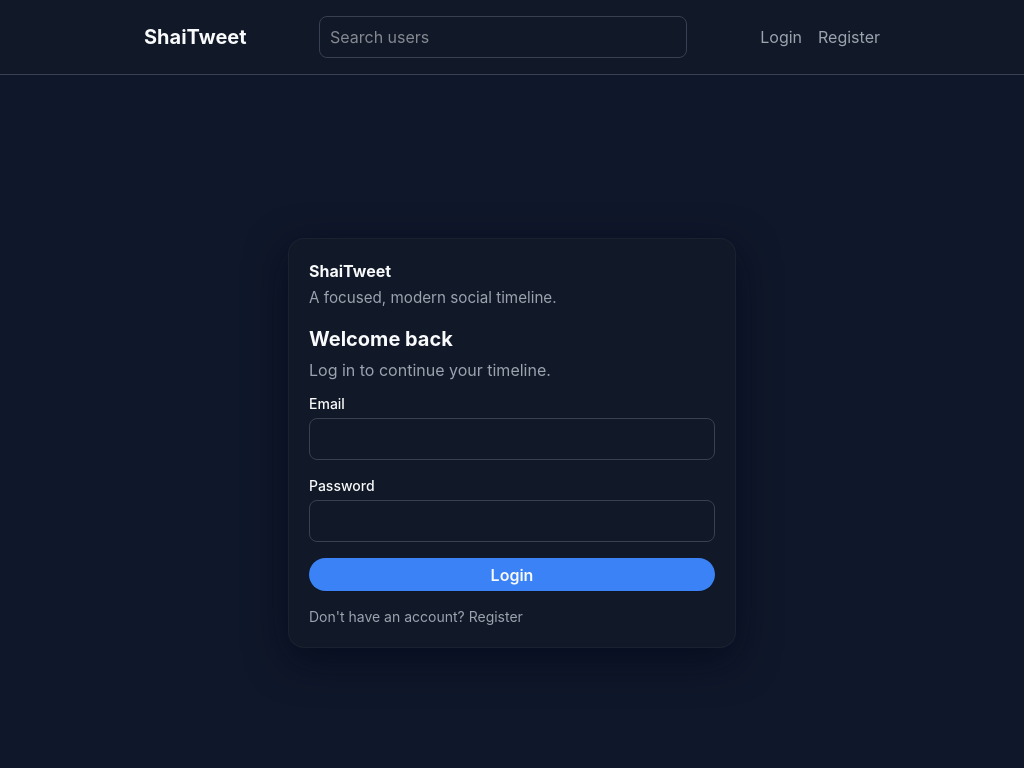
Test: Login flow › logs in and navigates to feed
The image size is (1024, 768).
Step 1. Type "alice@example.com" into the field labelled "Email" → (512, 439), box [309,418,715,460]
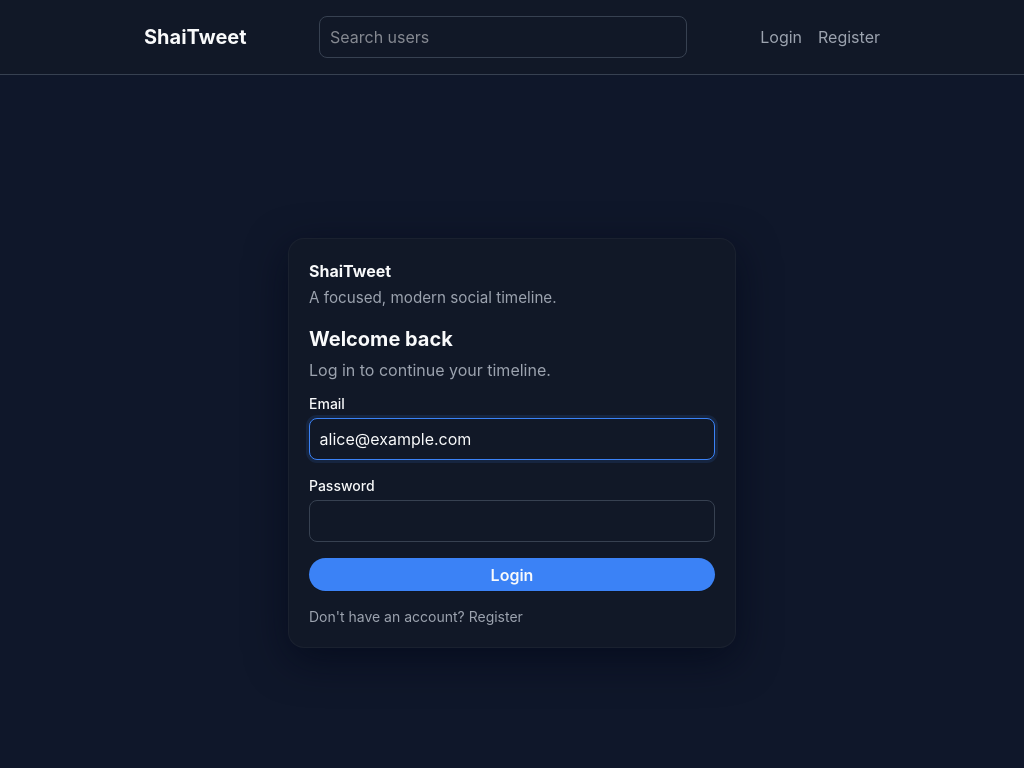
Step 2. Type "Password123!" into the password field labelled "Password" → (512, 521), box [309,500,715,542]
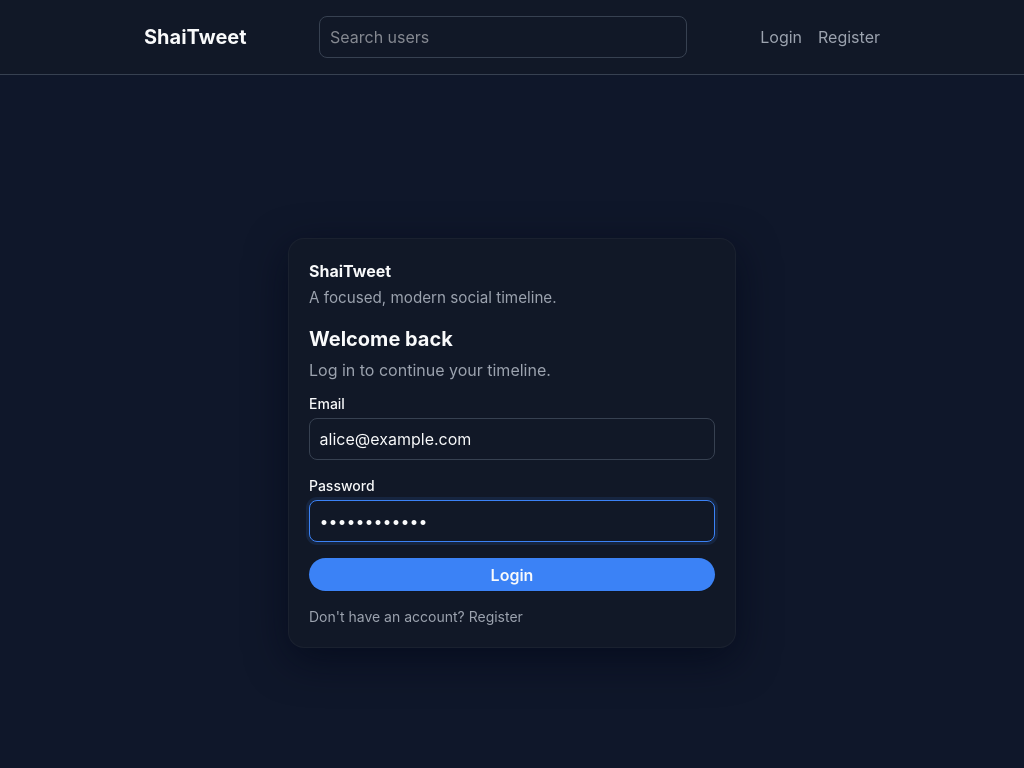
Step 3. Click the button "Login" → (512, 575), box [309,558,715,591]
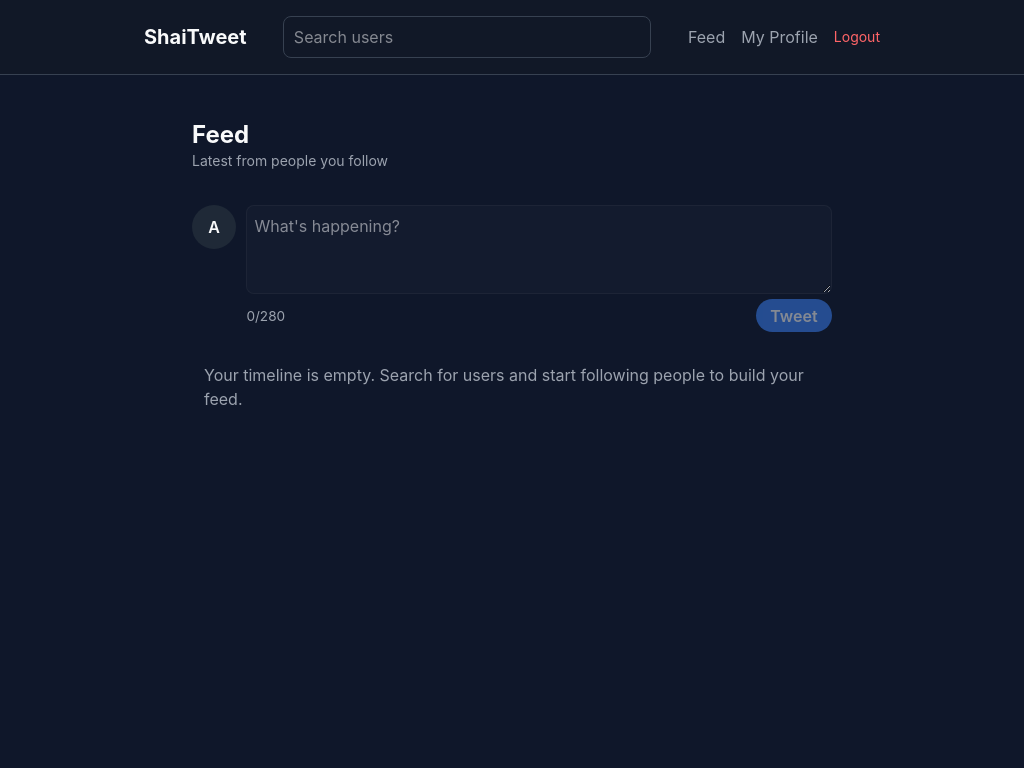
Expected: the heading "Feed" is shown, [192,120,249,149]
